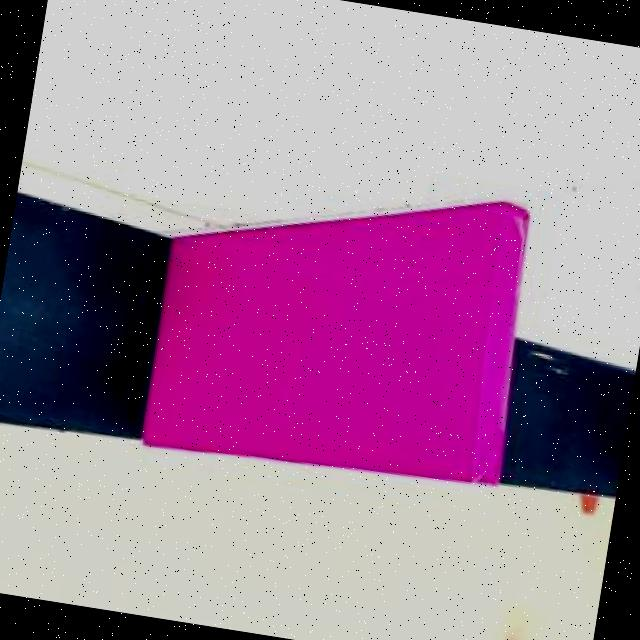xparking: (137, 196, 534, 494)
